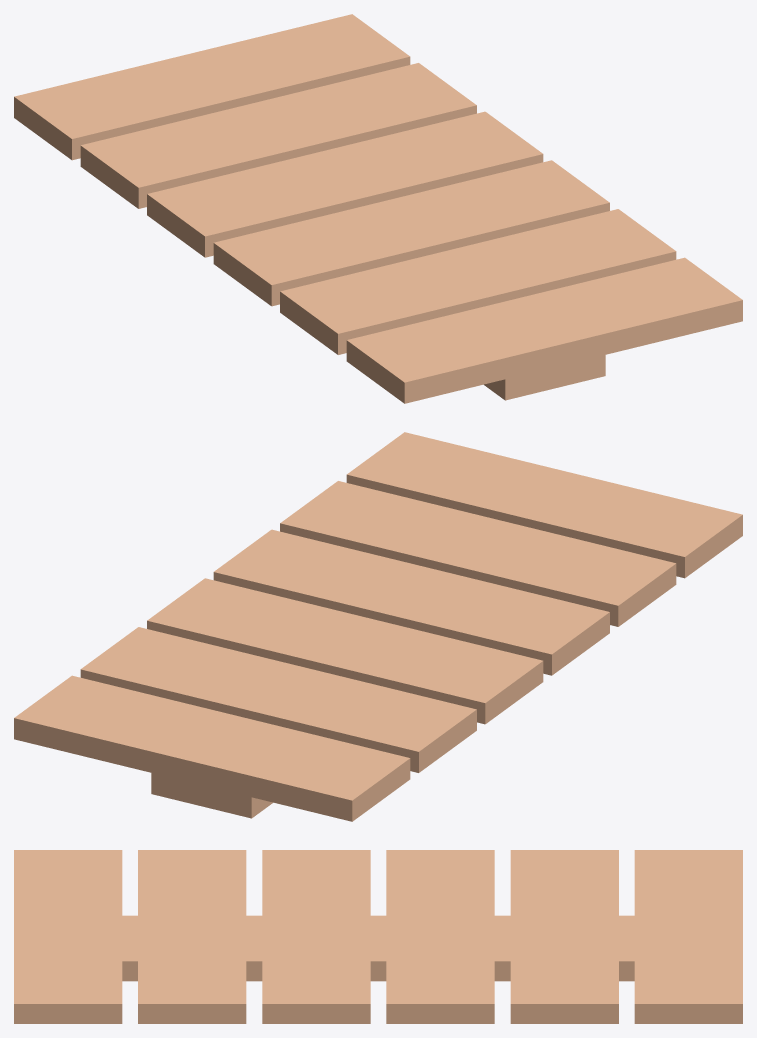
Rendered from planksHalf.glb.
The picture shows the model from 3 angles, top to bottom: view 1: azimuth 30°, elevation 25°; view 2: azimuth 150°, elevation 25°; view 3: azimuth 270°, elevation 25°; orthographic projection. The views are drawn at different scales.
Visible parts, largest first — view 1: planks.001; view 2: planks.001; view 3: planks.001.
Boxes of the visible parts, x1,y1,x2,y2 form: planks.001: (14, 14, 742, 403); planks.001: (14, 432, 742, 821); planks.001: (14, 850, 742, 1023).
Bounding box in the file's own units: 0.5 × 0.06 × 1.
